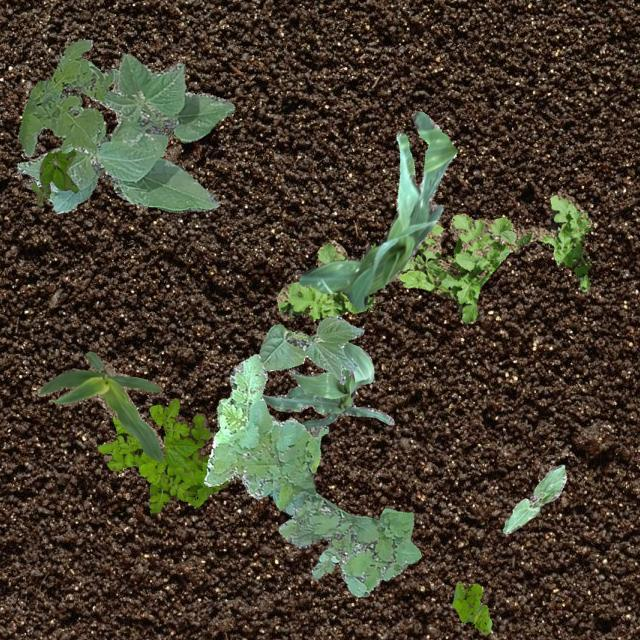crop: (15, 52, 234, 212), (298, 110, 457, 308), (35, 350, 164, 460), (260, 341, 392, 426), (258, 316, 362, 384), (502, 463, 566, 532)
weed: (202, 354, 420, 596), (274, 190, 592, 324), (96, 398, 228, 514), (18, 38, 118, 156), (29, 148, 78, 206), (450, 580, 490, 634)
